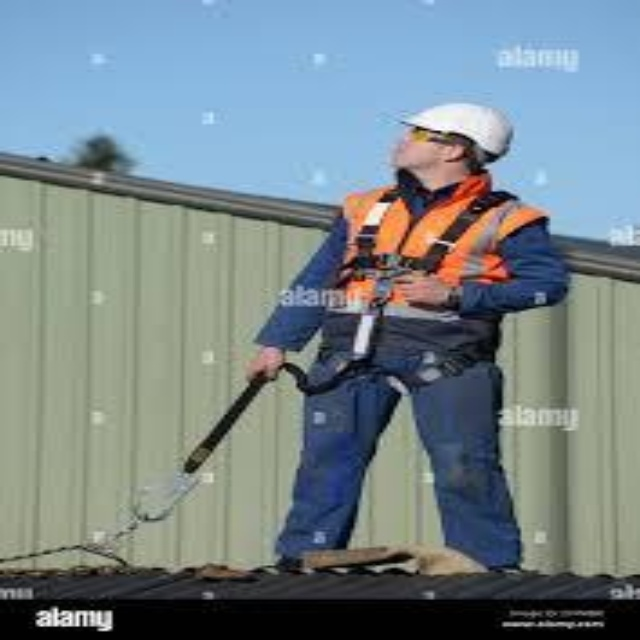Arnes_seguridad: (280, 179, 535, 396)
